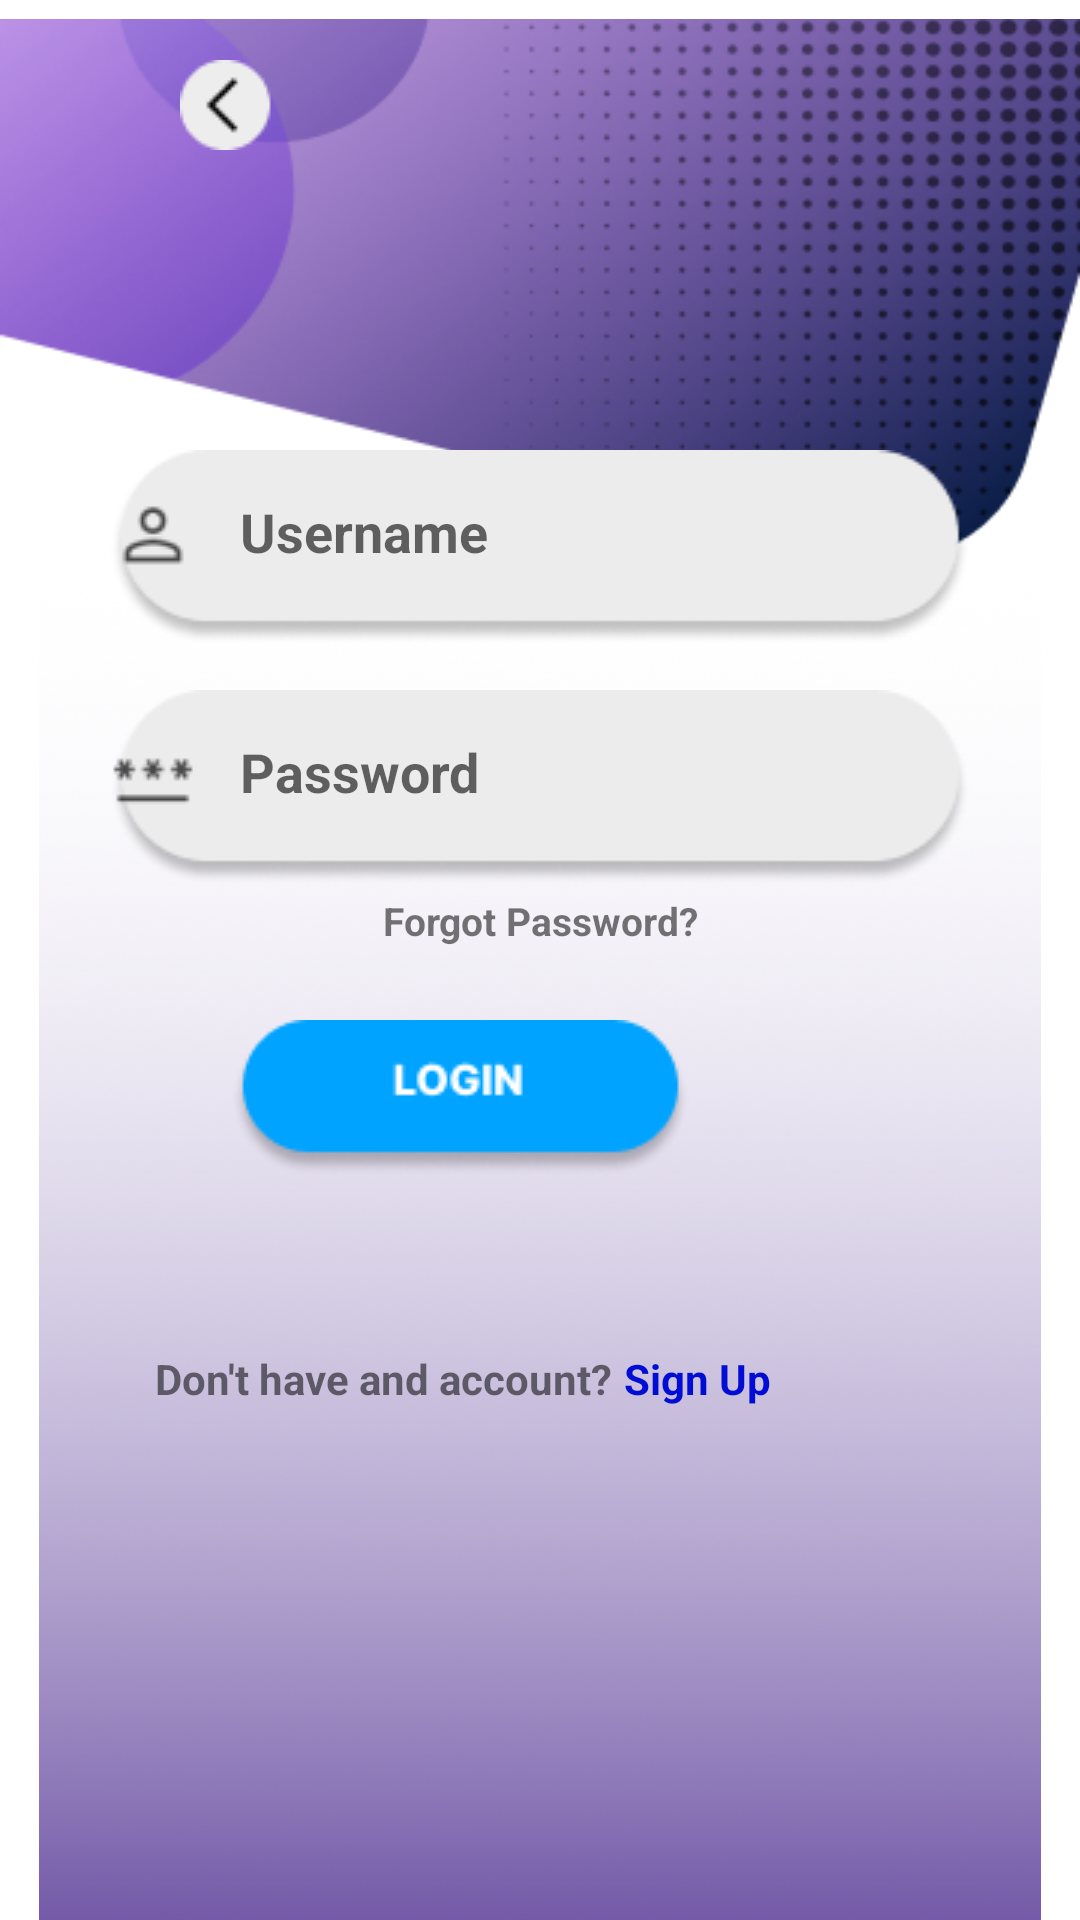

Screen size 1080 × 1920. Icon name, then its center in pixels as [x,y]:
backgrp: [225,105]
